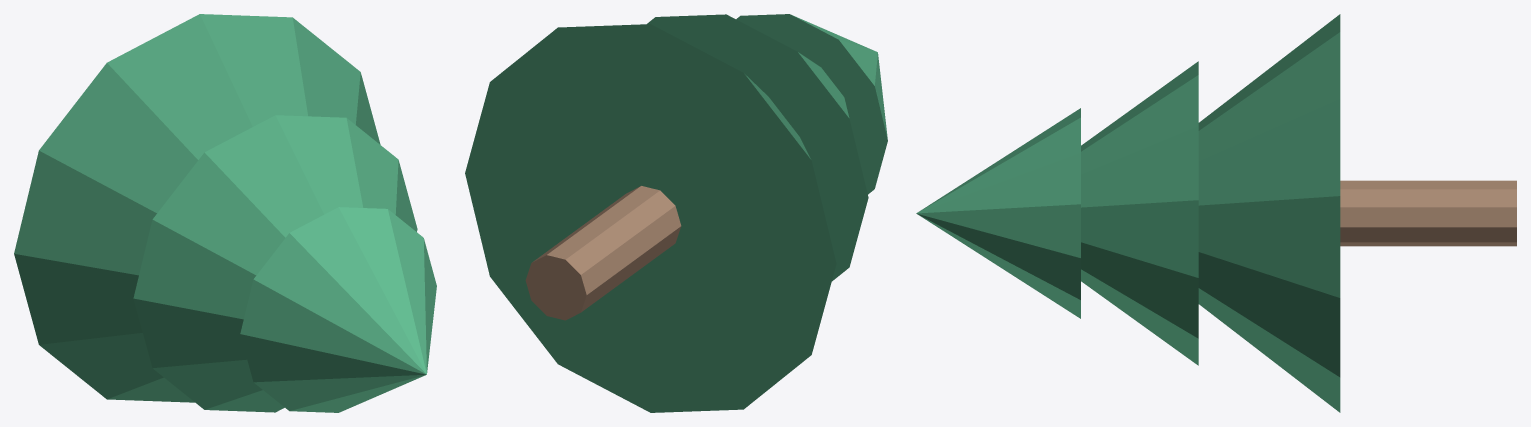
File: tree-pine.glb
3 views of the same model, side by side, from view 1: azimuth 30°, elevation 25°; view 2: azimuth 150°, elevation 25°; view 3: azimuth 270°, elevation 25° (orthographic). The views are drawn at different scales.
Parts seen in each view (by area): view 1: world; view 2: world; view 3: world.
Boxes of the visible parts, <box> form: world: <box>14,14,436,412</box>; world: <box>465,14,887,412</box>; world: <box>916,14,1516,412</box>.
Bounding box in the file's own units: 3.4 × 3.4 × 5.1.
